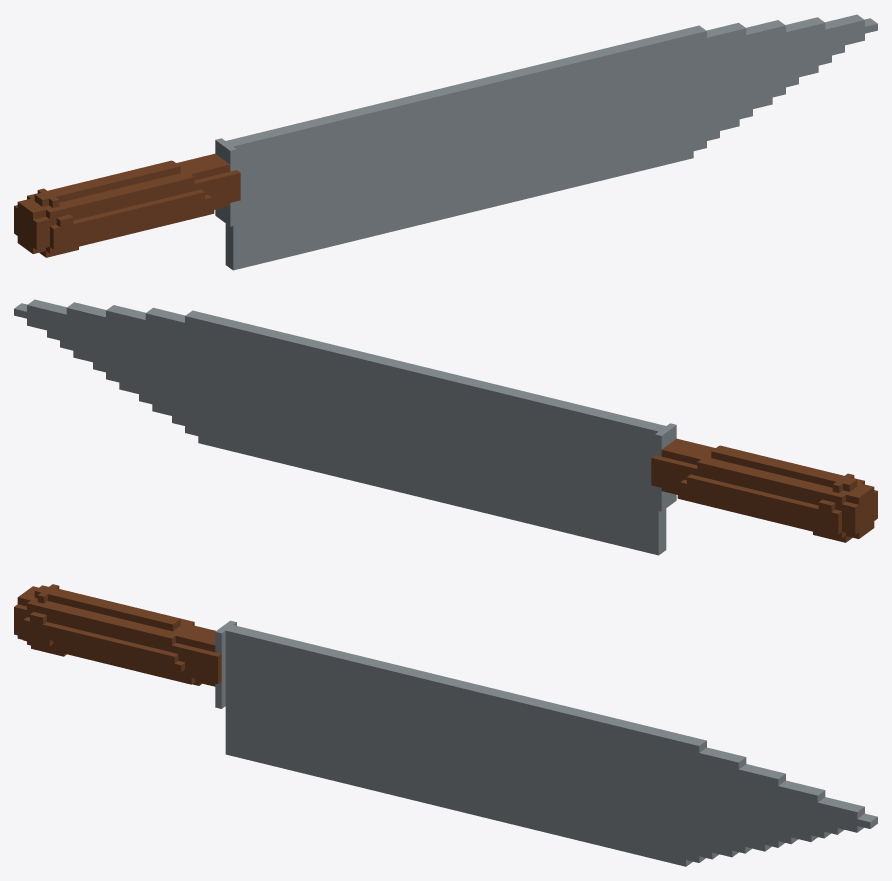
Rendered from machete.glb.
The picture shows the model from 3 angles, top to bottom: view 1: azimuth 30°, elevation 25°; view 2: azimuth 150°, elevation 25°; view 3: azimuth 330°, elevation 25°; orthographic projection.
Parts seen in each view (by area): view 1: machete:knife; view 2: machete:knife; view 3: machete:knife.
Part boxes in pixels (x1,y1,x2,y2): machete:knife: (14, 14, 877, 270); machete:knife: (14, 299, 877, 555); machete:knife: (14, 584, 877, 866).
Bounding box in the file's own units: 0.516 × 0.072 × 0.032.
